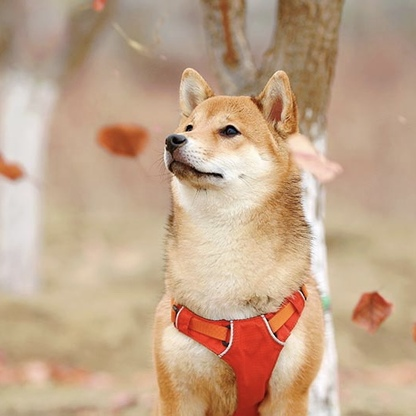shiba: (147, 63, 331, 416)
